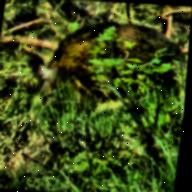boar: (22, 10, 185, 123)
